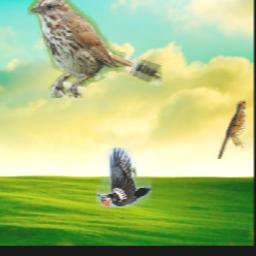Sparrow: (29, 0, 163, 99), (217, 101, 246, 160)
Woodpecker: (96, 148, 152, 207)
